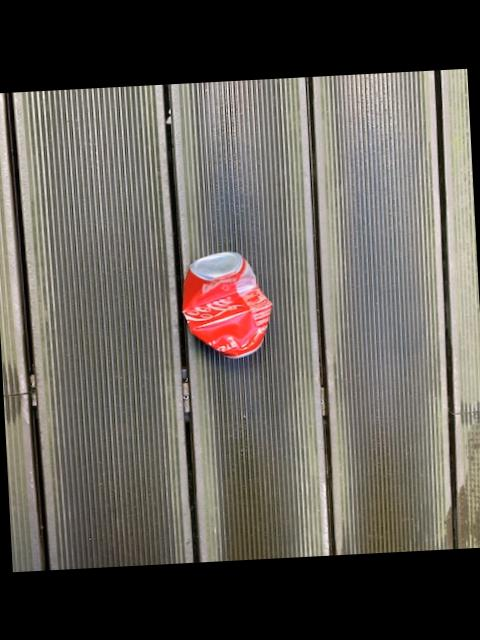metal: (185, 253, 273, 358)
